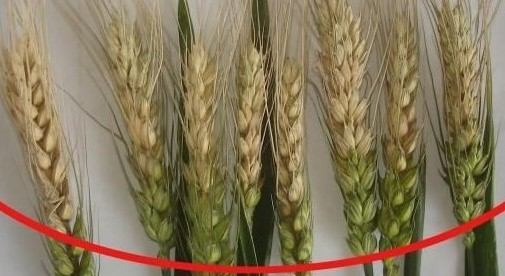Wheat scab: (97, 27, 179, 245), (376, 16, 433, 255), (435, 5, 494, 228), (183, 38, 237, 273), (266, 54, 325, 261)
